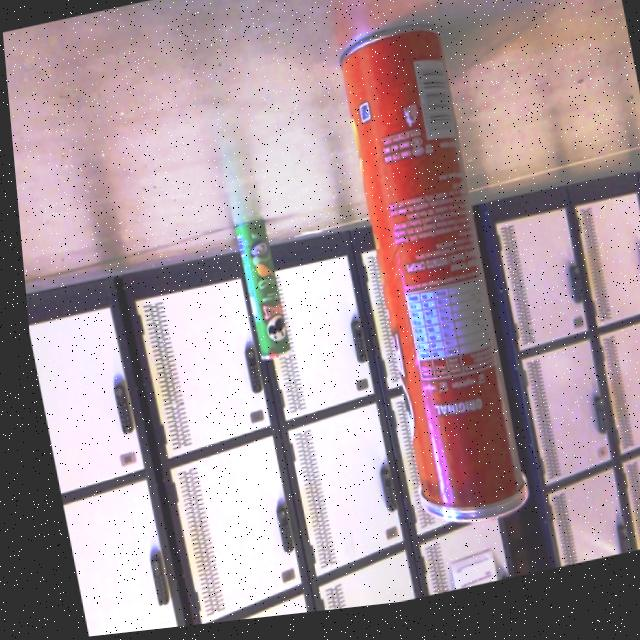greenpringles: (221, 213, 298, 375)
redpringles: (322, 12, 531, 560)
